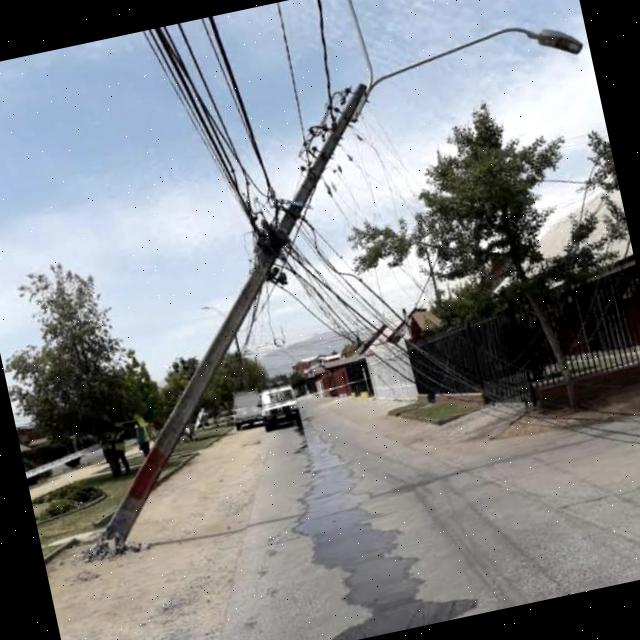Broken Pole: (0, 0, 640, 551)
